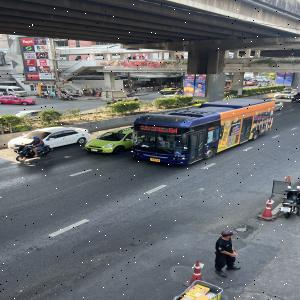Bus Line Number: (168, 127, 180, 134)
Bus Side Number: (174, 154, 186, 158)
Destination Sign: (139, 126, 168, 133)
TSB-Bus: (131, 98, 276, 167)
